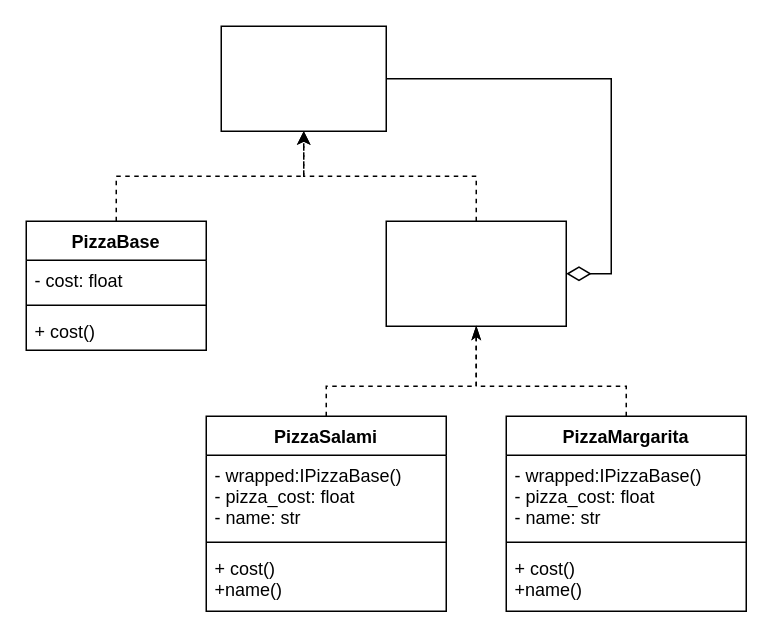
The diagram is 773 pixels wide and 642 high, and some of its shapes have lost their labels. Each missing label, with the centre of its shape:
<<Interface>> Decorator + name(): point 475,273
<<Interface>> IPizzaBase + cost(): point 303,78
